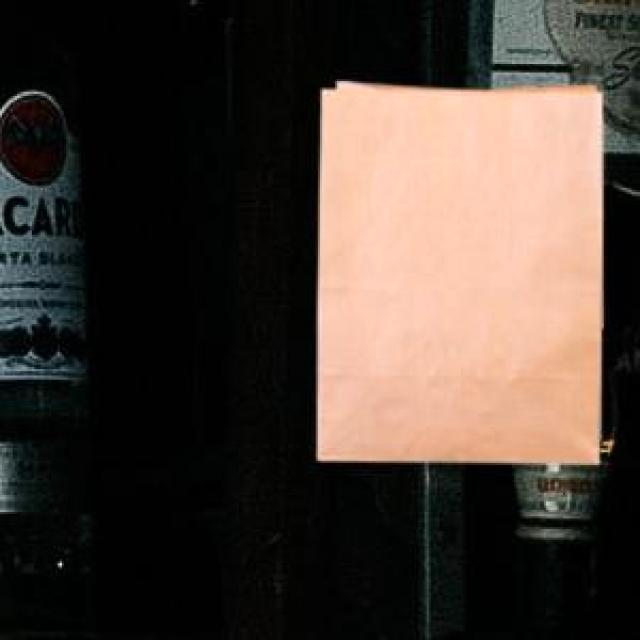Kardus: (313, 77, 606, 467)
